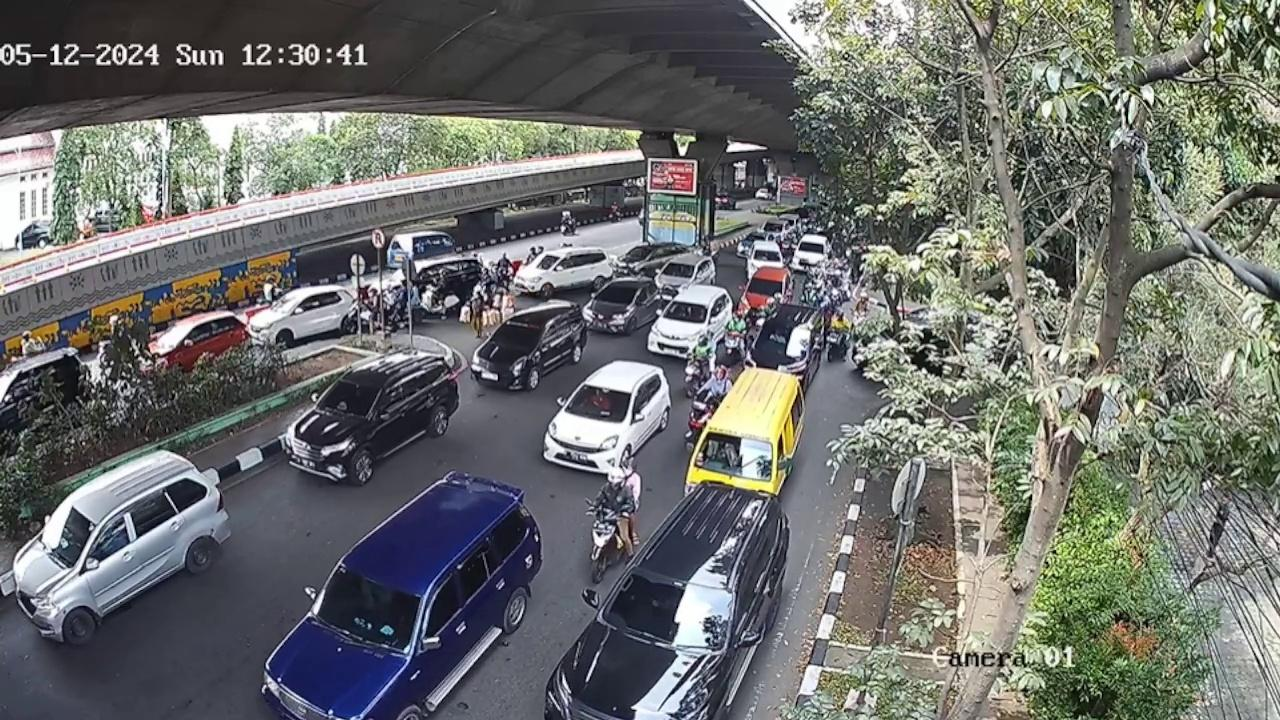tidak-pakai: (587, 391, 612, 416)
windshield: (604, 563, 741, 655), (314, 565, 421, 658), (689, 431, 776, 480), (567, 381, 632, 424), (315, 375, 378, 414)
